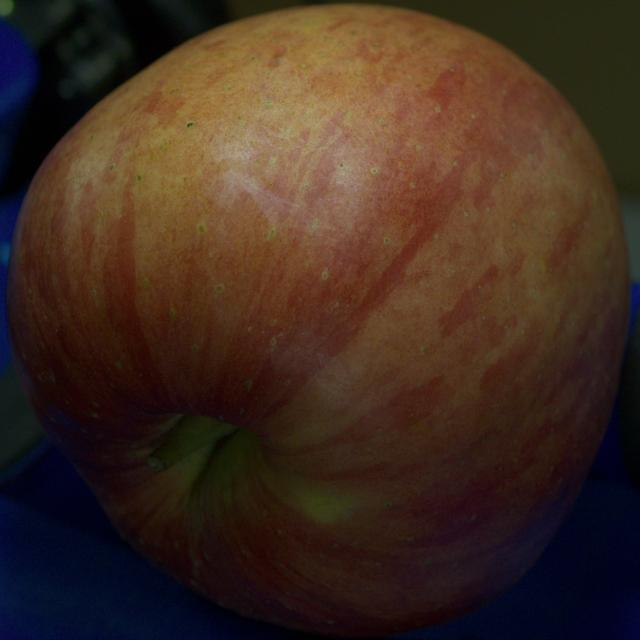apple: (7, 5, 630, 636)
